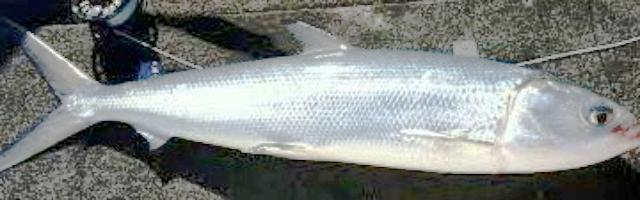Healthy Fish: (0, 20, 640, 176)
